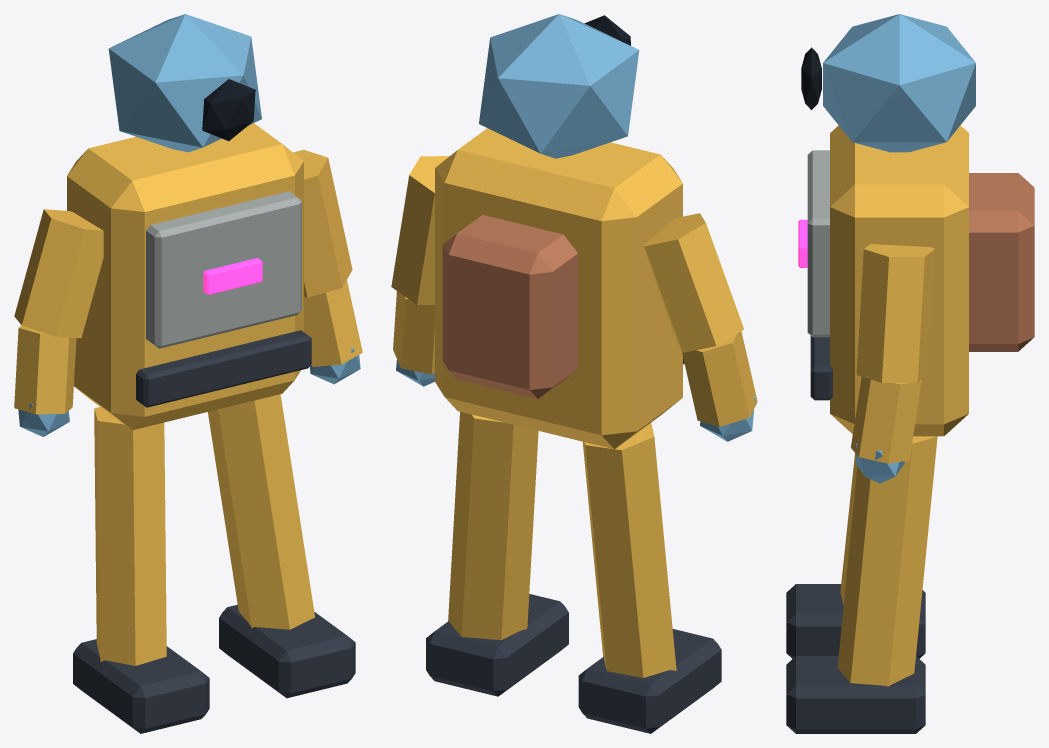
The model's file is npcs_034_seed11.glb.
3 views of the same model, side by side, from view 1: azimuth 30°, elevation 25°; view 2: azimuth 150°, elevation 25°; view 3: azimuth 270°, elevation 25° (orthographic). The views are drawn at different scales.
Visible parts, largest first — view 1: npcs_034_seed11; view 2: npcs_034_seed11; view 3: npcs_034_seed11.
Part boxes in pixels (box(x1,y1,x2,y2)): npcs_034_seed11: box(14, 14, 362, 733); npcs_034_seed11: box(391, 14, 757, 733); npcs_034_seed11: box(786, 14, 1034, 733).
Size of the model in its own units: 0.822 by 1.52 by 0.5127.
